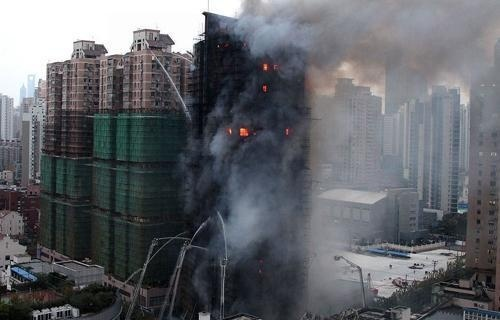fire: (239, 125, 251, 136), (261, 61, 271, 70)
